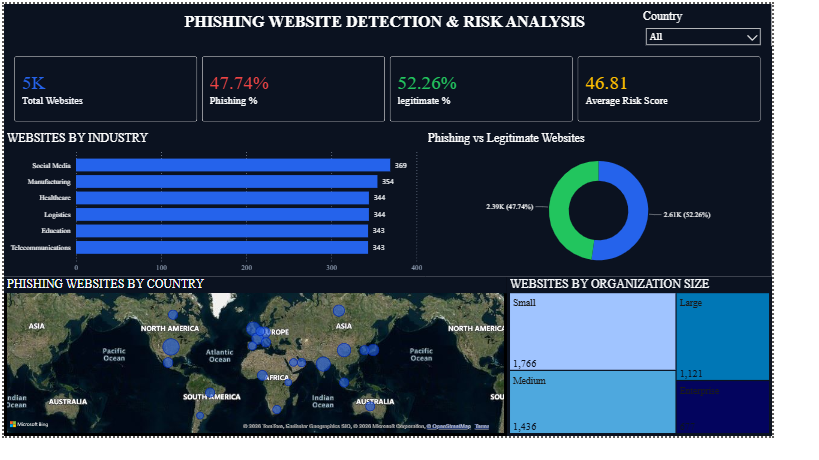

The page's visual inventory and layout, read from the dashboard file:
{"tool":"powerbi","page":{"name":"Overview","canvas":[1280,720],"ordinal":0},"visuals":[{"type":"cardVisual","fields":{"Data":["Measures (2).Total Websites","Measures (2).Phishing %","Measures (2).legitimate %","Measures (2).Average Risk Score"]},"box":[0,70.7,1281,143.1],"z":0},{"type":"donutChart","title":"Phishing vs Legitimate Websites","fields":{"Y":["CountNonNull(phishing_dataset_advanced.website_id)"],"Category":["phishing_dataset_advanced.result"]},"box":[703.9,212.2,576.6,242.9],"z":1000},{"type":"clusteredBarChart","title":"WEBSITES BY INDUSTRY","fields":{"Y":["CountNonNull(phishing_dataset_advanced.website_id)"],"Category":["phishing_dataset_advanced.industry"]},"box":[1.5,213.7,702.4,241.5],"z":2000},{"type":"map","title":"PHISHING WEBSITES BY COUNTRY","fields":{"Category":["phishing_dataset_advanced.country"],"Size":["Measures (2).Phishing Count"]},"box":[0,455.1,838.5,264.9],"z":3000},{"type":"treemap","title":"WEBSITES BY ORGANIZATION SIZE","fields":{"Group":["phishing_dataset_advanced.organization_size"],"Values":["CountNonNull(phishing_dataset_advanced.website_id)"]},"box":[838.5,455.1,442,264.9],"z":4000},{"type":"textbox","title":"PHISHING WEBSITE DETECTION & RISK ANALYSIS","box":[0,0,1279,71.7],"z":5000},{"type":"slicer","title":"Country","fields":{"Values":["phishing_dataset_advanced.country"]},"box":[1059.5,8.8,210.7,62.9],"z":6000}]}

Visuals, with their boxes in screenshot pixels (x1, y1, x2, y2), scaled from the page's 1280x720 canvas onto the 819x460 screenshot:
cardVisual - Measures (2).Total Websites x Measures (2).Phishing %: locate(0, 45, 818, 137)
"Phishing vs Legitimate Websites" donutChart: locate(450, 136, 818, 291)
"WEBSITES BY INDUSTRY" clusteredBarChart: locate(1, 137, 450, 291)
"PHISHING WEBSITES BY COUNTRY" map: locate(0, 291, 537, 459)
"WEBSITES BY ORGANIZATION SIZE" treemap: locate(537, 291, 818, 459)
"PHISHING WEBSITE DETECTION & RISK ANALYSIS" textbox: locate(0, 0, 818, 46)
"Country" slicer: locate(678, 6, 813, 46)
